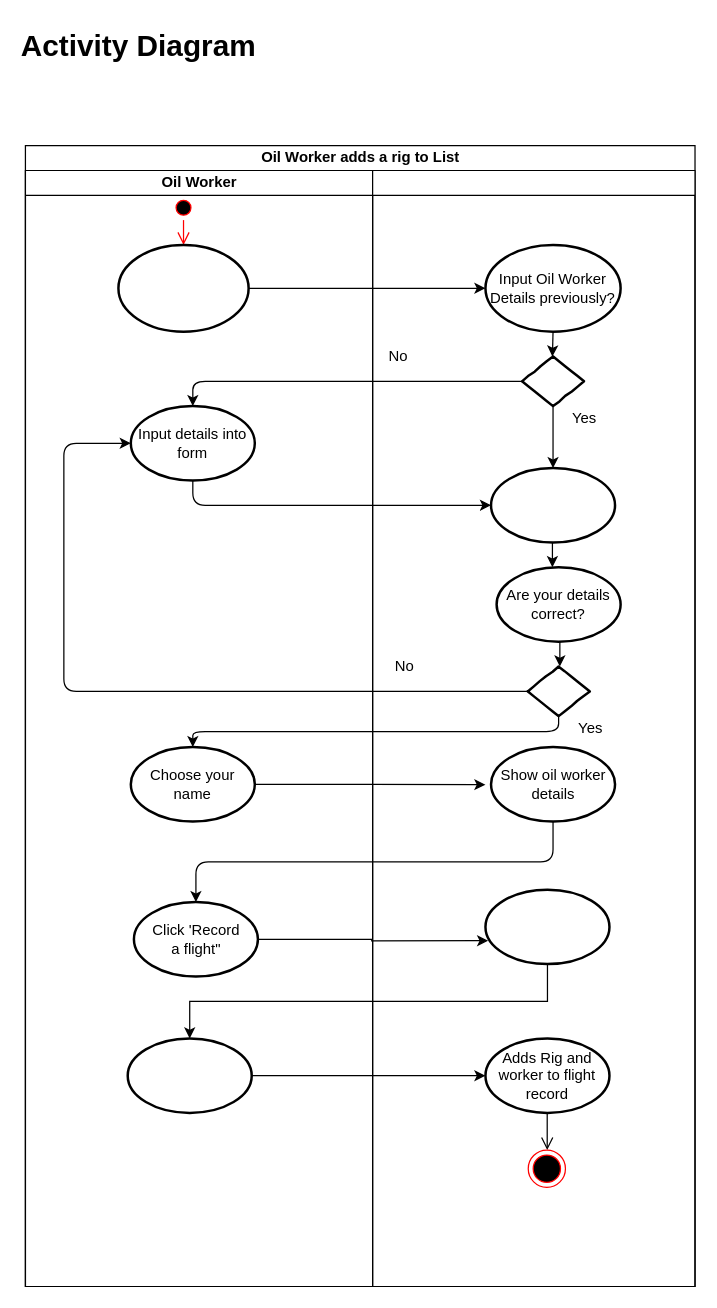
The diagram is 717 pixels wide and 1308 high, and some of its shapes have lost their labels. The shapes that lost their labels are listed below. From the top down, each one's box as (x1, y1, x2, y2) in pixels, then its label:
(117, 243, 249, 332): Goes to home page
(489, 466, 616, 543): Show Oil Workers Page
(371, 169, 695, 1286): RigAdvisor App
(484, 888, 610, 965): Show New Flight page
(126, 1037, 252, 1114): Select Rig and your name
